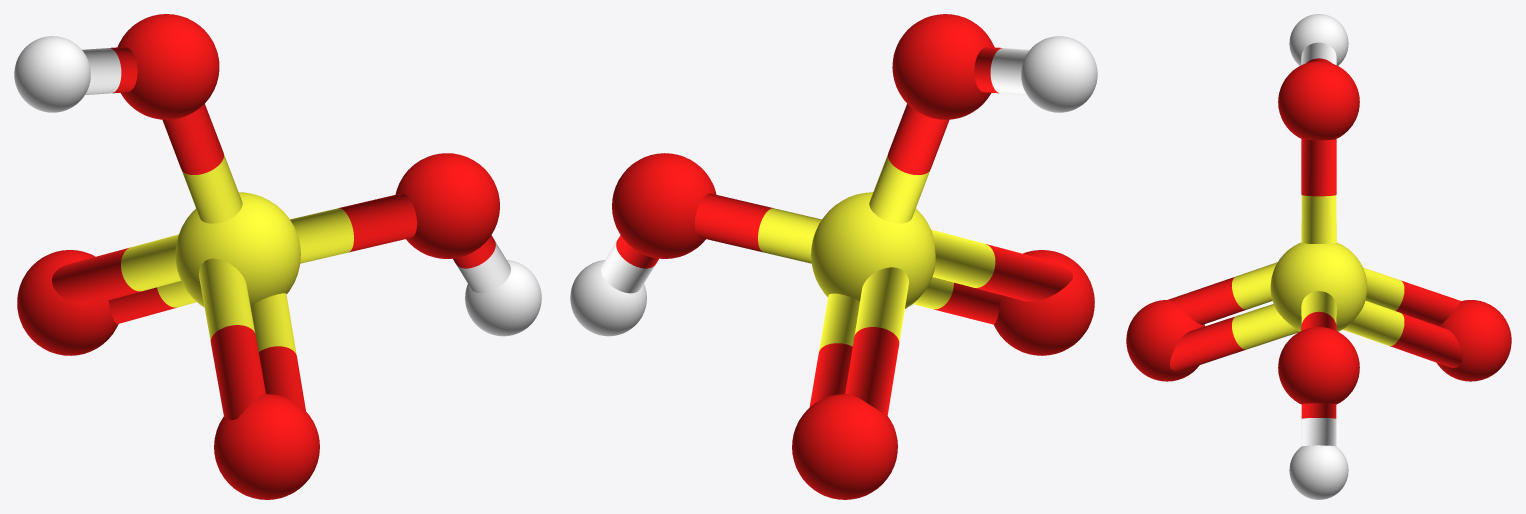
File: sulfuricacid.obj
The picture shows the model from 3 angles, left to right: view 1: azimuth 30°, elevation 25°; view 2: azimuth 150°, elevation 25°; view 3: azimuth 270°, elevation 25°; orthographic projection. The views are drawn at different scales.
Parts seen in each view (by area): view 1: S1_Atom, O4_Atom, O2_Atom, O3_Atom, O5_Atom, H7_Atom, Cylinder10, H6_Atom, Cylinder6, Cylinder9, Cylinder16, Cylinder14 (+11 smaller); view 2: S1_Atom, O5_Atom, O2_Atom, O3_Atom, O4_Atom, H7_Atom, H6_Atom, Cylinder6, Cylinder10, Cylinder16, Cylinder5, Cylinder14 (+11 smaller); view 3: S1_Atom, O3_Atom, O2_Atom, O5_Atom, O4_Atom, H6_Atom, Cylinder12, Cylinder8, Cylinder14, Cylinder10, H7_Atom, Cylinder11 (+10 smaller).
Part boxes in pixels (<box>): S1_Atom: <box>175,192,300,307</box>; O4_Atom: <box>214,394,319,499</box>; O2_Atom: <box>395,153,499,258</box>; O3_Atom: <box>117,14,219,119</box>; O5_Atom: <box>17,250,118,355</box>; H7_Atom: <box>14,36,90,112</box>; Cylinder10: <box>210,325,265,420</box>; H6_Atom: <box>465,260,541,336</box>; Cylinder6: <box>52,247,141,305</box>; Cylinder9: <box>199,258,255,340</box>; Cylinder16: <box>338,193,417,252</box>; Cylinder14: <box>162,104,223,174</box>; S1_Atom: <box>811,192,935,308</box>; O5_Atom: <box>792,394,897,499</box>; O2_Atom: <box>612,153,716,258</box>; O3_Atom: <box>892,14,994,119</box>; O4_Atom: <box>994,250,1094,355</box>; H7_Atom: <box>1021,36,1097,112</box>; H6_Atom: <box>570,260,646,336</box>; Cylinder6: <box>845,327,899,415</box>; Cylinder10: <box>975,244,1072,301</box>; Cylinder16: <box>695,193,773,252</box>; Cylinder5: <box>854,267,908,341</box>; Cylinder14: <box>888,104,949,174</box>; S1_Atom: <box>1270,242,1367,331</box>; O3_Atom: <box>1278,61,1359,140</box>; O2_Atom: <box>1278,327,1359,404</box>; O5_Atom: <box>1437,300,1511,381</box>; O4_Atom: <box>1126,300,1204,381</box>; H6_Atom: <box>1289,445,1348,499</box>; Cylinder12: <box>1169,316,1245,370</box>; Cylinder8: <box>1390,313,1462,367</box>; Cylinder14: <box>1301,139,1336,196</box>; Cylinder10: <box>1168,277,1246,324</box>; H7_Atom: <box>1289,14,1348,65</box>; Cylinder11: <box>1232,304,1299,349</box>.
Size of the model in its own units: 3.94 by 2.99 by 3.3.
